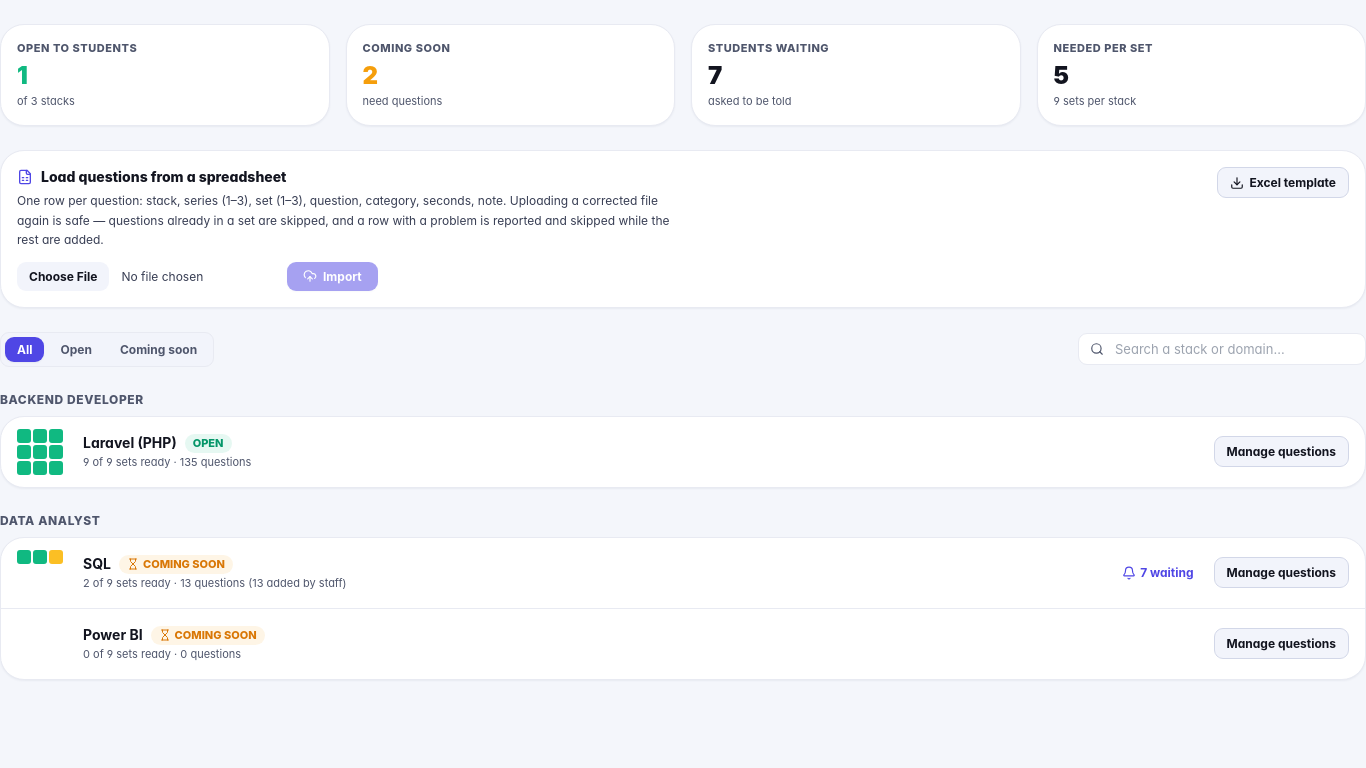
filling a stack › shows the server's reason when a question is refused
The width and height of the screenshot is (1366, 768).
Expected: the text "Open to students" is shown, [17, 41, 137, 55]
Click the button with aria-label "manage sql questions": point(1281, 572) [1214, 557, 1349, 588]
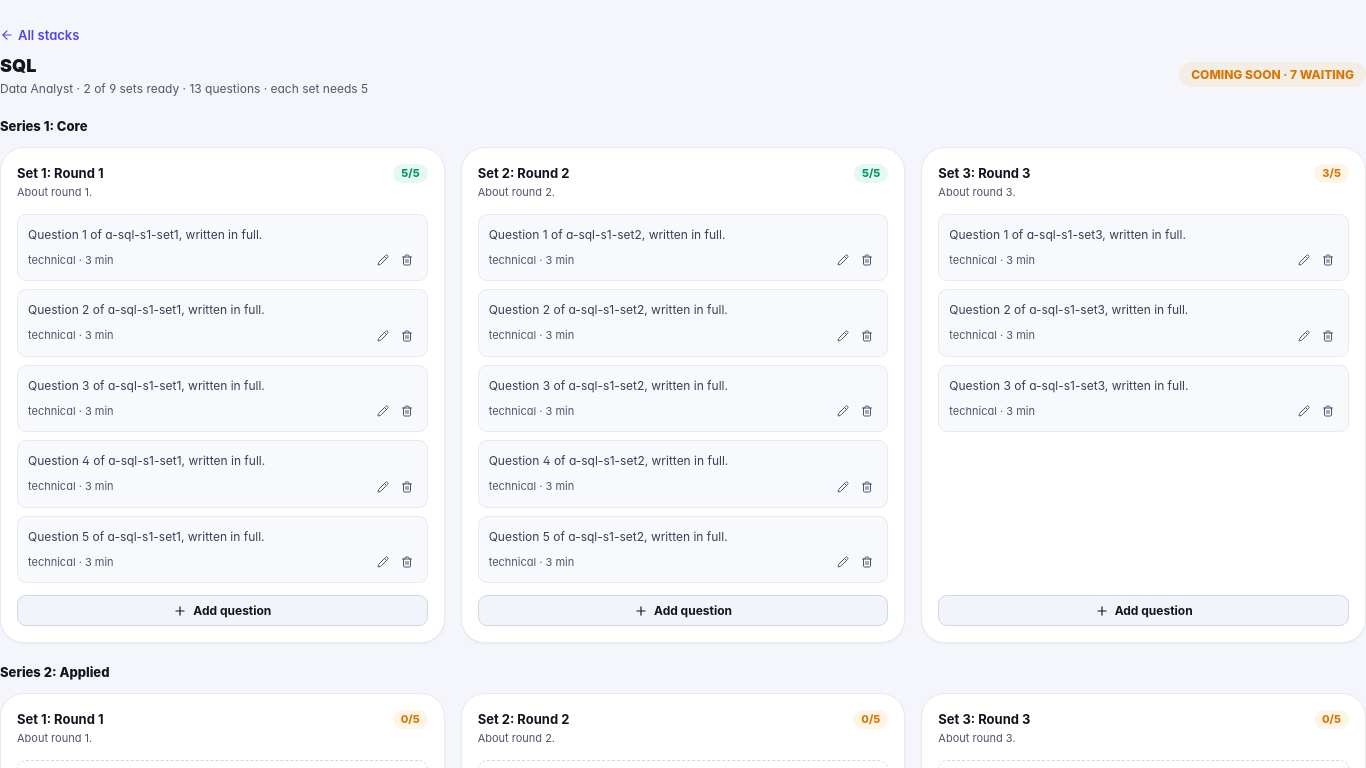
Expected: the text "each set needs 5" is shown, [0, 80, 368, 97]
Click the 1st button "Add question": point(222, 611) [17, 595, 428, 626]
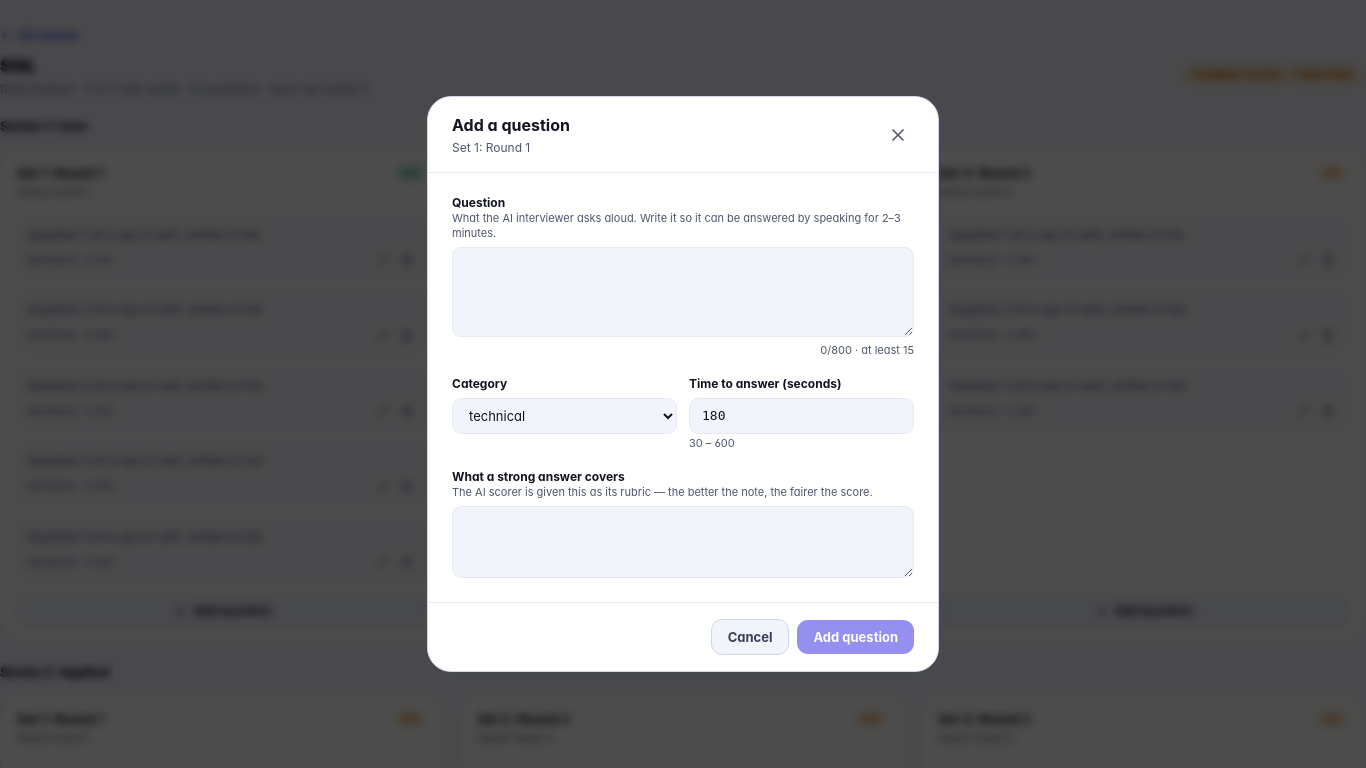
In the text box labelled "Question": point(683, 292) [452, 247, 914, 337], type "What is the difference between WHERE and HAVING?"
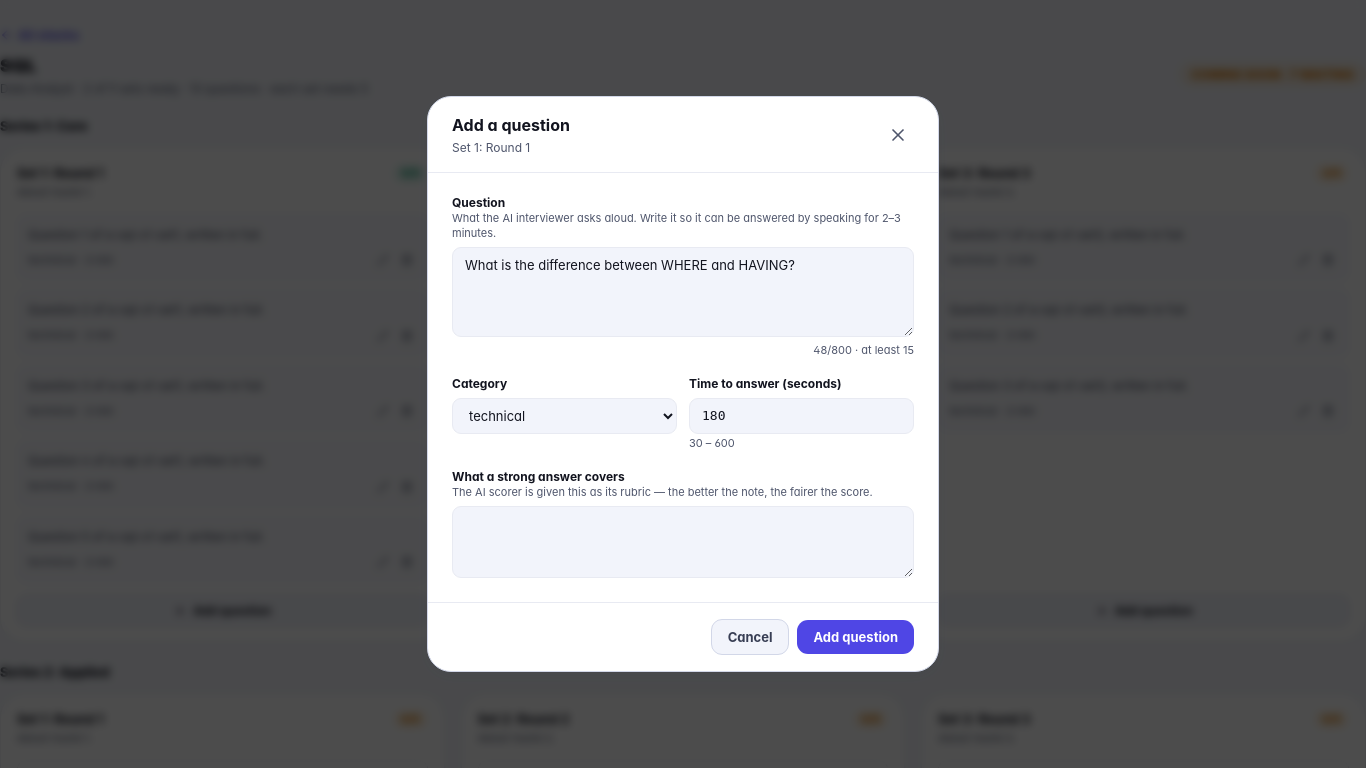
Click the button "Add question": point(856, 637) [798, 620, 914, 654]
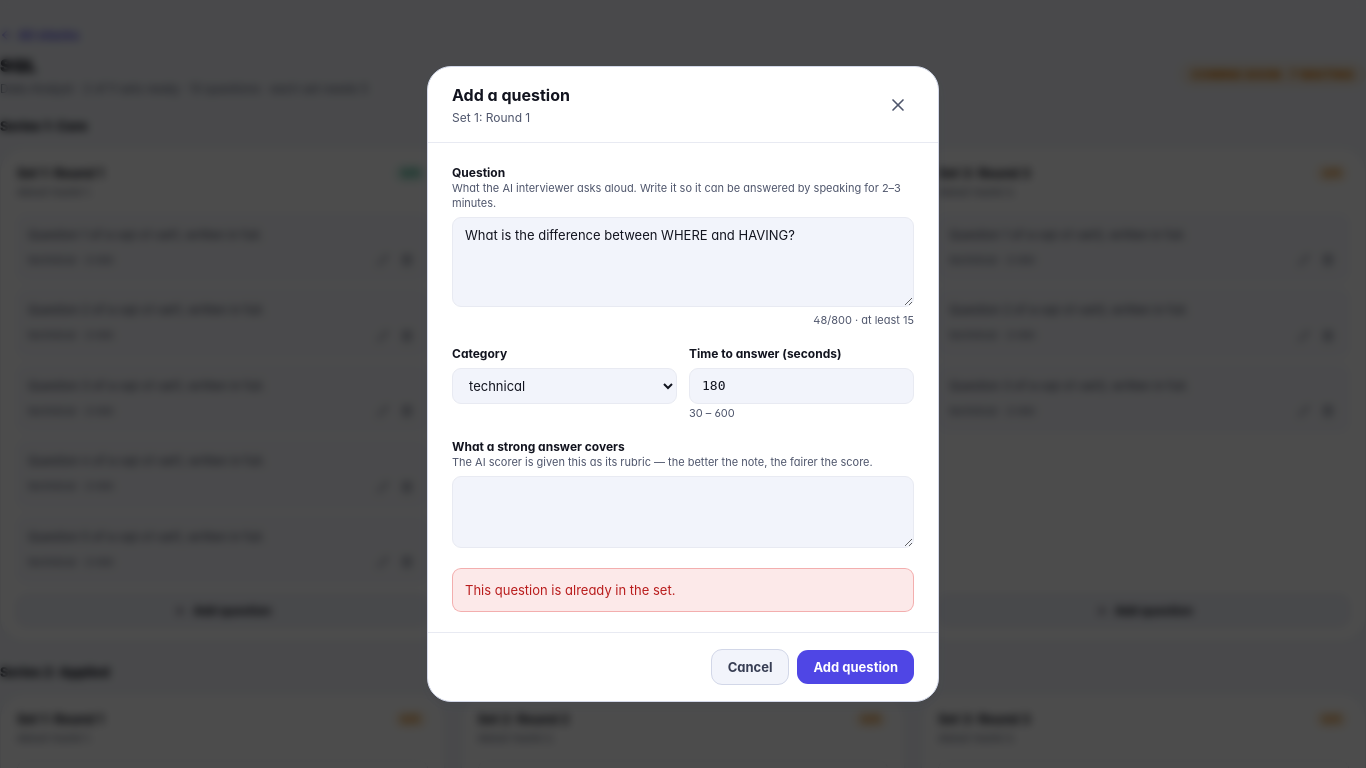
Expected: the message shows "already in the set", [465, 582, 676, 598]
